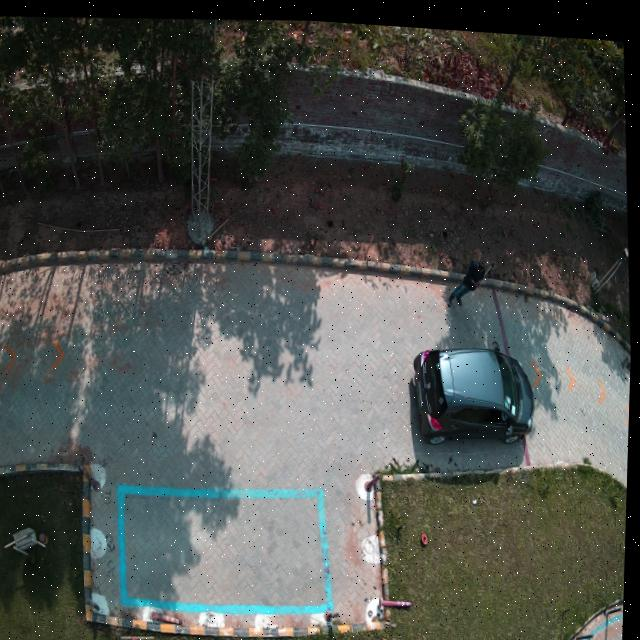car: (416, 335, 537, 439)
